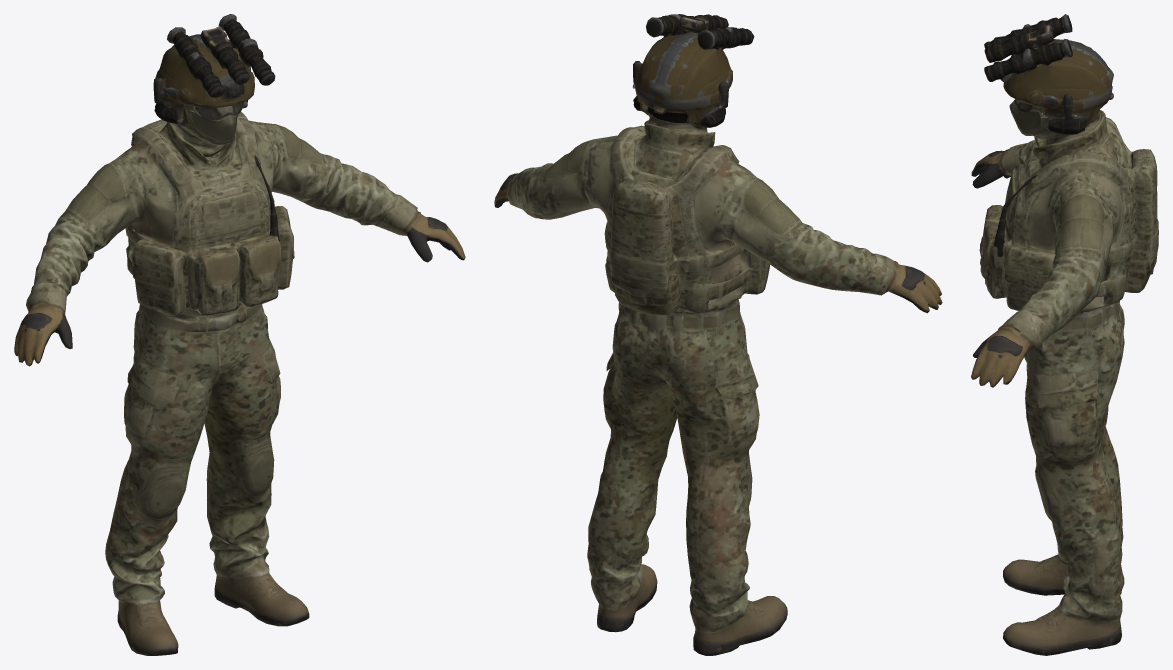
Rendered from sol_ally1.glb.
3 views of the same model, side by side, from view 1: azimuth 30°, elevation 25°; view 2: azimuth 150°, elevation 25°; view 3: azimuth 270°, elevation 25° (orthographic). The views are drawn at different scales.
Size of the model in its own units: 0.7629 by 0.996 by 0.2872.
1 material, 1 textured.
